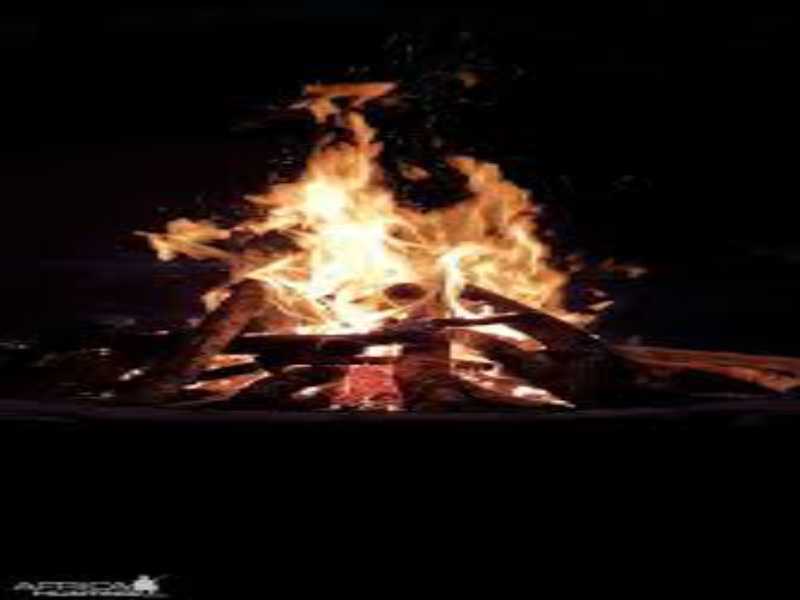fire: (240, 71, 570, 340), (146, 210, 232, 267), (512, 382, 569, 407), (197, 280, 234, 312), (571, 306, 598, 332)
